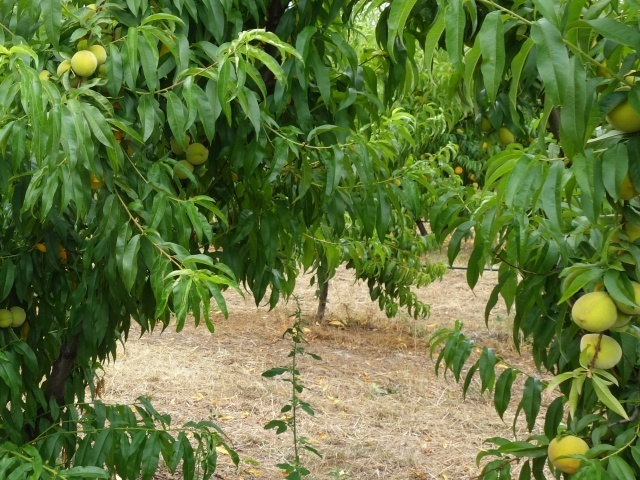peach: (567, 283, 620, 337), (547, 428, 593, 476), (577, 328, 625, 373), (609, 80, 639, 140), (605, 275, 639, 315), (69, 48, 101, 80), (52, 59, 82, 87), (185, 141, 212, 167), (173, 155, 198, 181), (495, 124, 517, 151), (167, 133, 189, 158), (10, 301, 28, 327), (86, 42, 107, 64), (1, 307, 14, 332)
